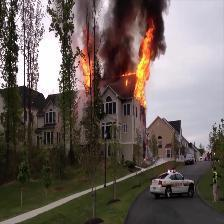fire: (132, 27, 156, 105), (73, 26, 101, 90)
